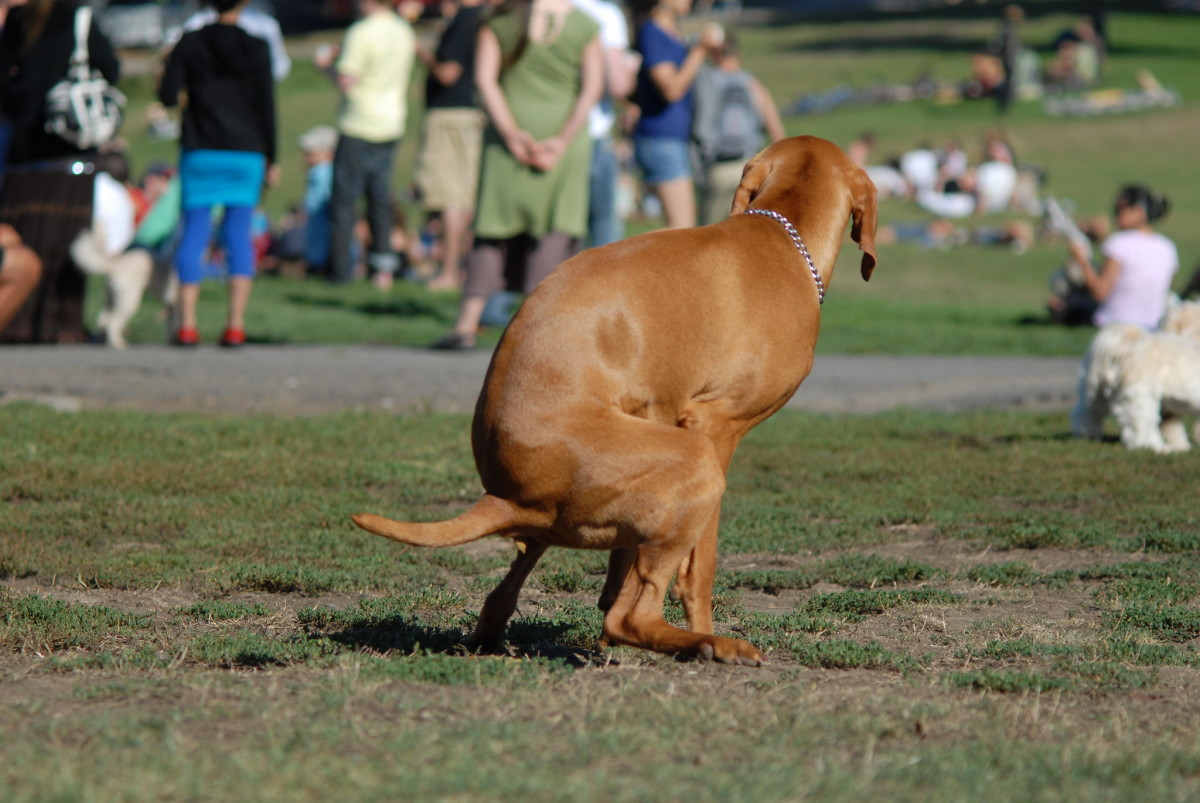dog_pooping: (346, 129, 886, 673)
